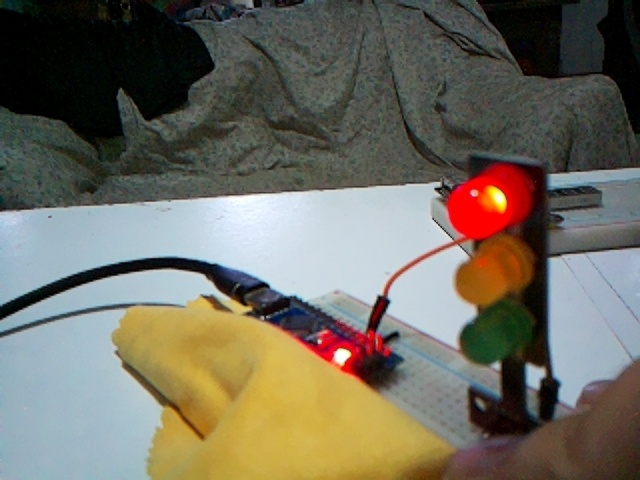traffic_light_red: (450, 154, 556, 429)
